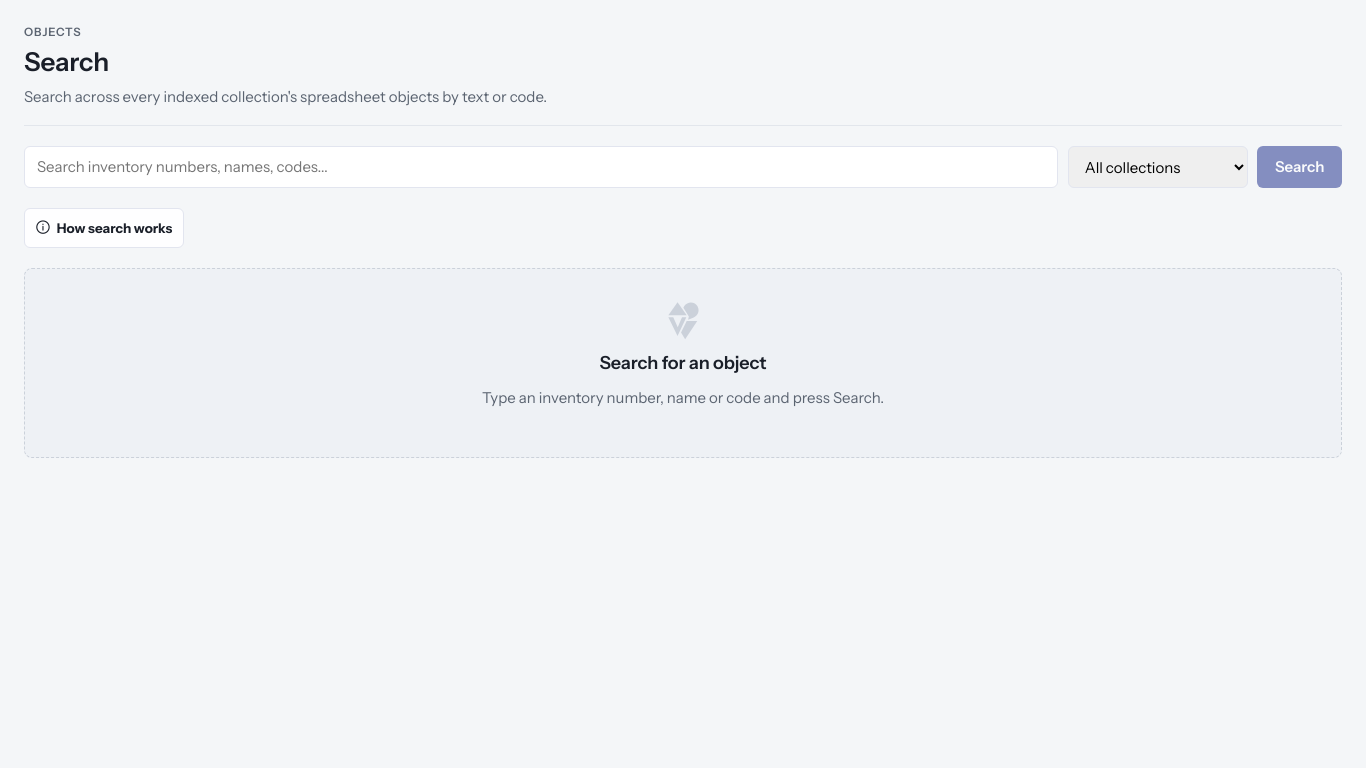
Test: ObjectSearchPageComponent › shows when a result has no proposal object snapshot
The image size is (1366, 768).
Type "jaguar" into the search field with class "search-bar__input". click: (541, 167)
box: [24,146,1058,188]
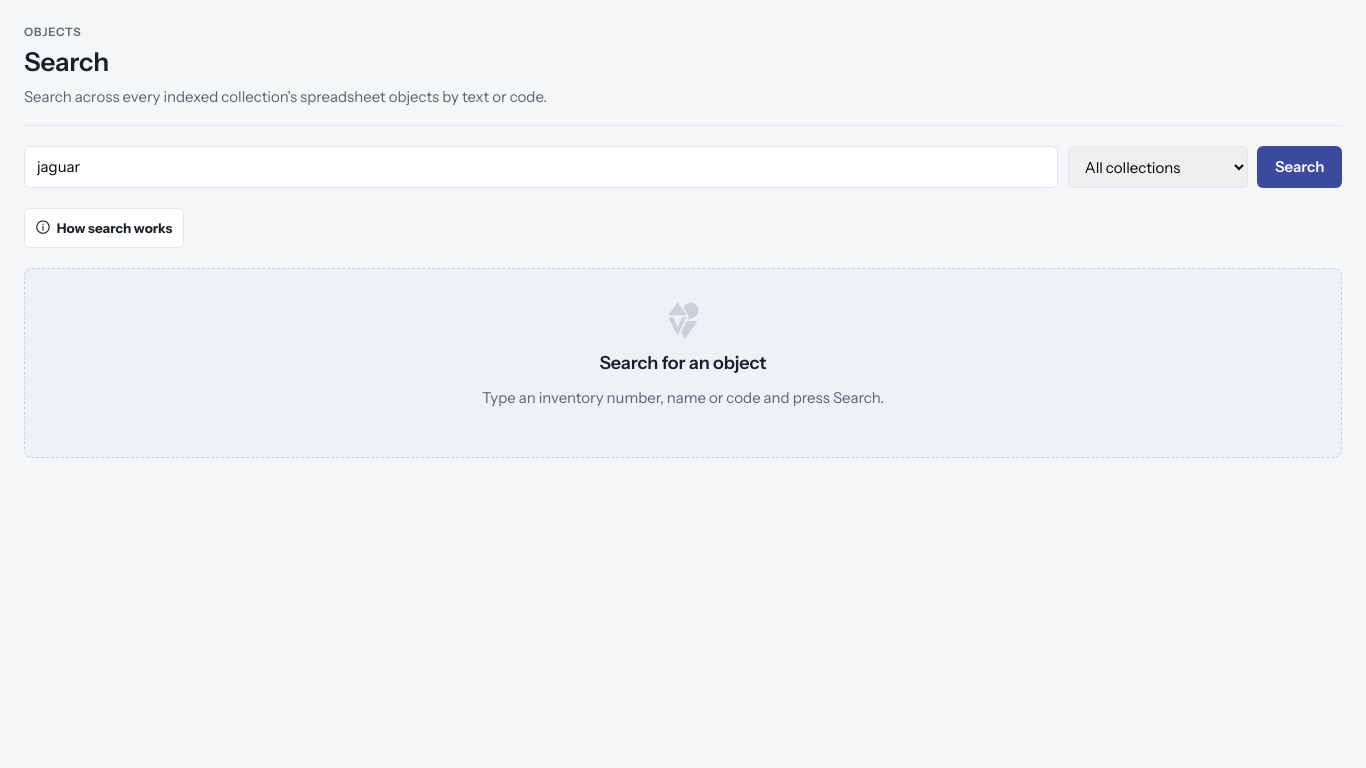
Click the button with class "search-bar__button". click: (1300, 167)
box: [1257,146,1342,188]
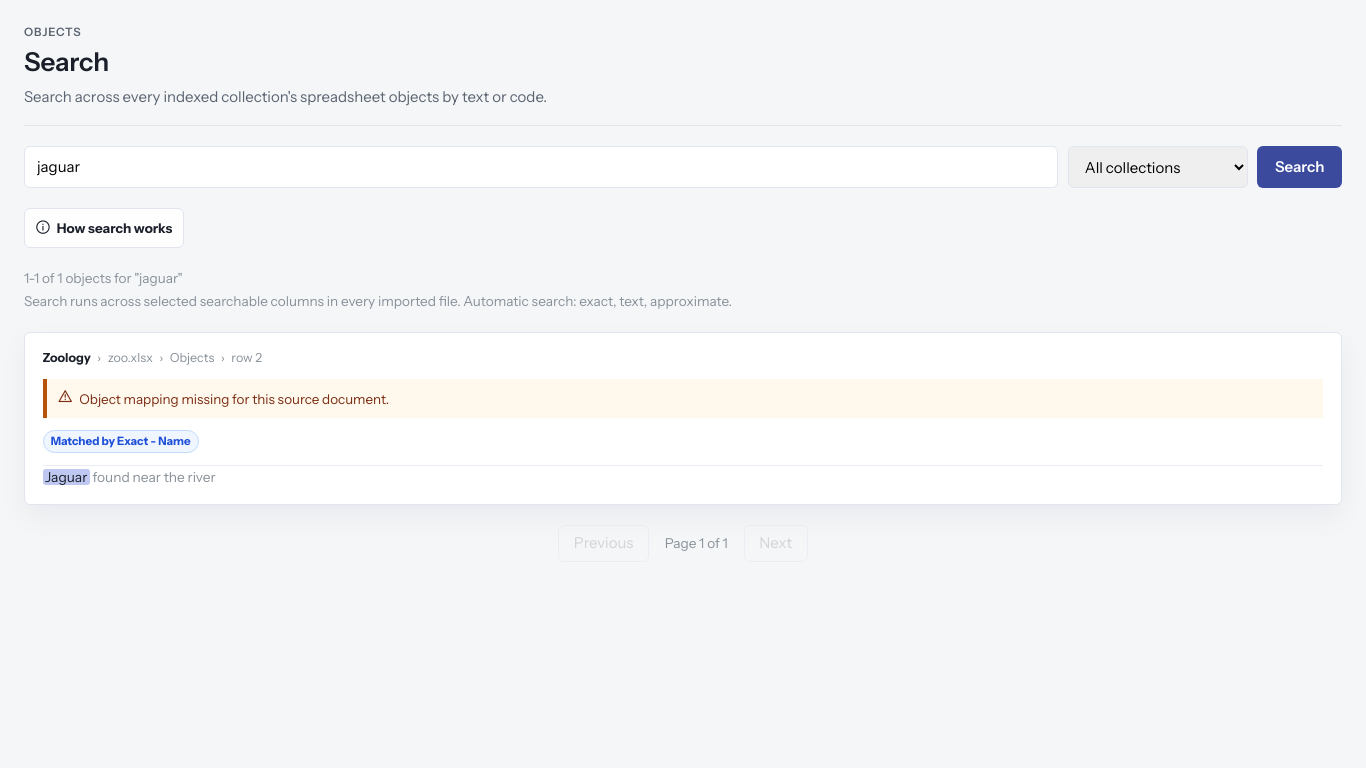
Check: the text "Object mapping missing" is shown, box [79,391,389,407]
